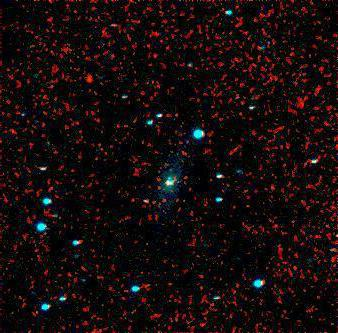star: (77, 63, 107, 93)
